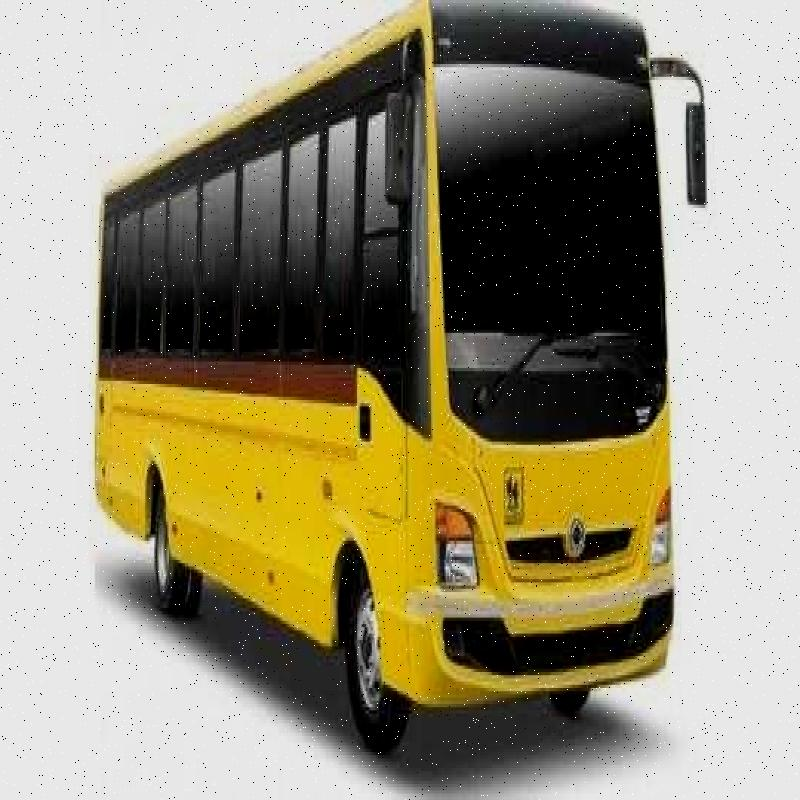bus: (88, 15, 701, 743)
